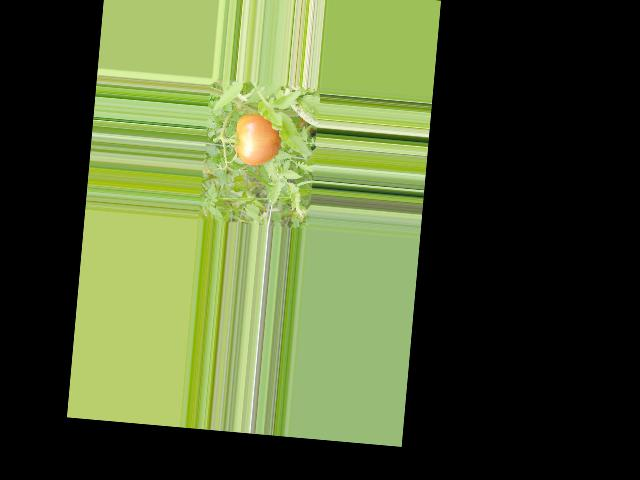tomato: (232, 112, 282, 167)
